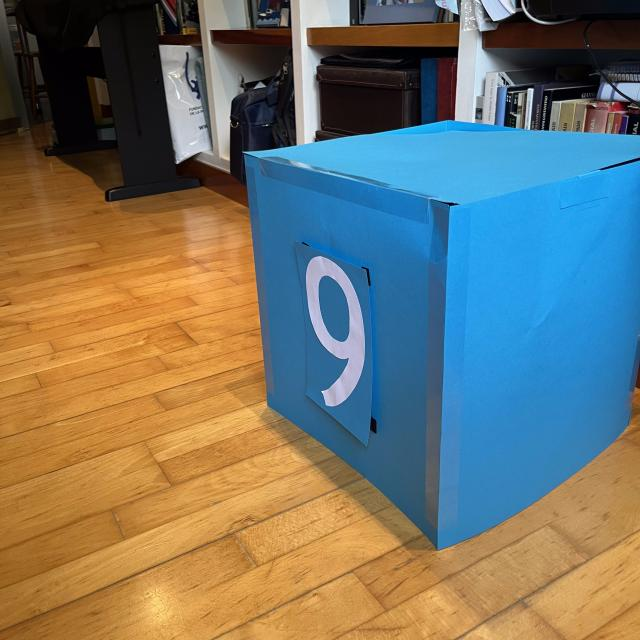box: (240, 116, 638, 550)
